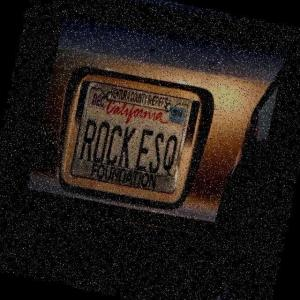Plate: (70, 81, 191, 195)
